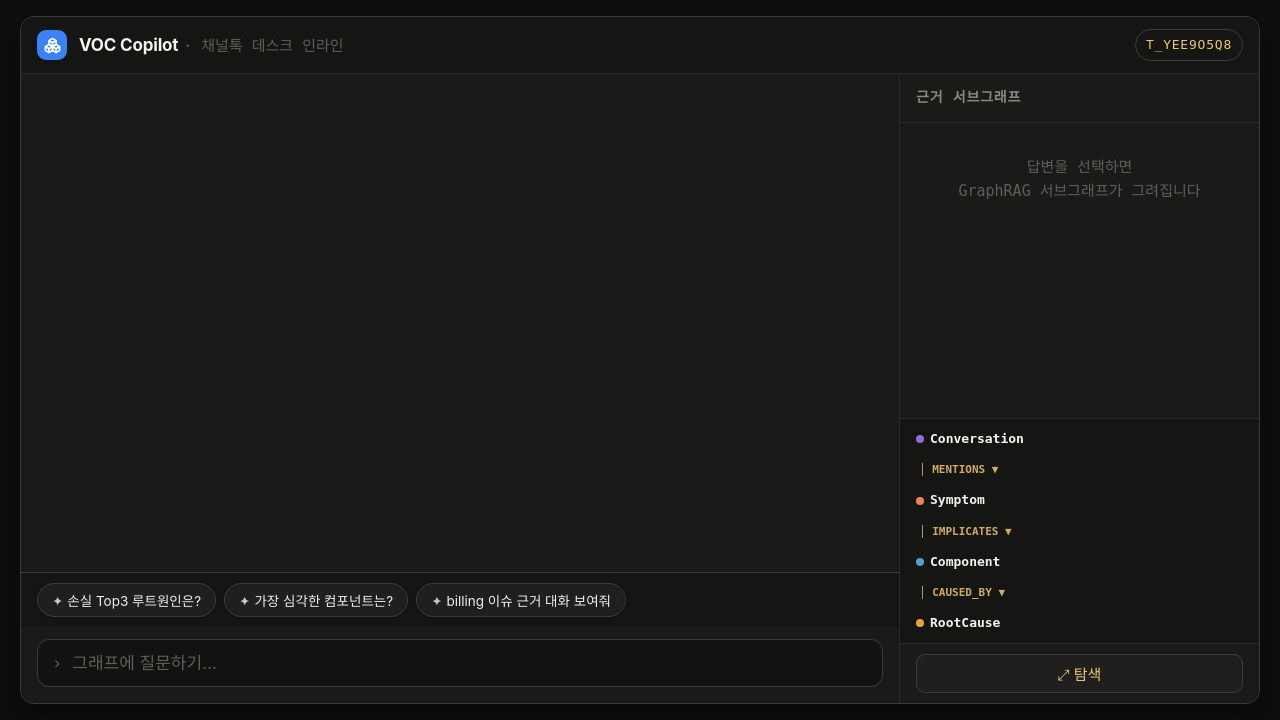
Test case: App › should feed the latest response evidence into the evidence panel (#49)
Type "ORDER 실패 원인?" into the field with placeholder "그래프에 질문하기…".
click(469, 663); type("ORDER 실패 원인?")  # box x1=70 y1=652 x2=868 y2=674
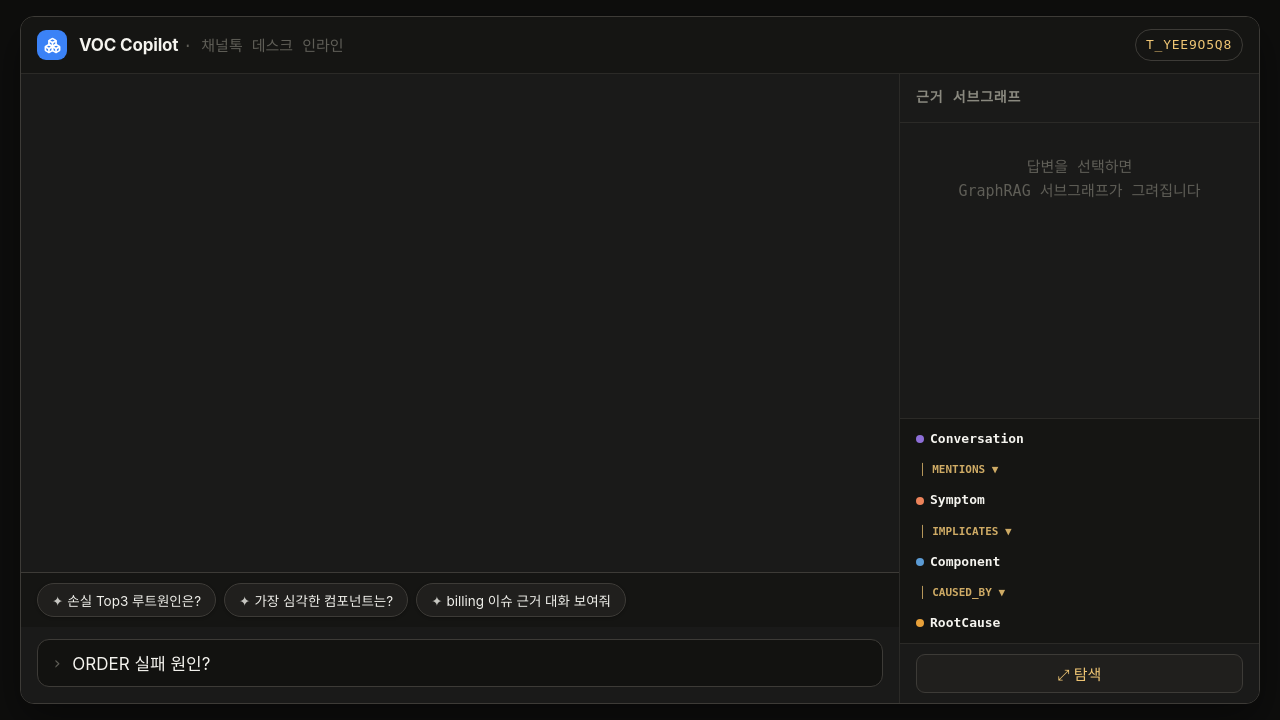
Submit the form with placeholder "질문", box x1=21 y1=627 x2=899 y2=703
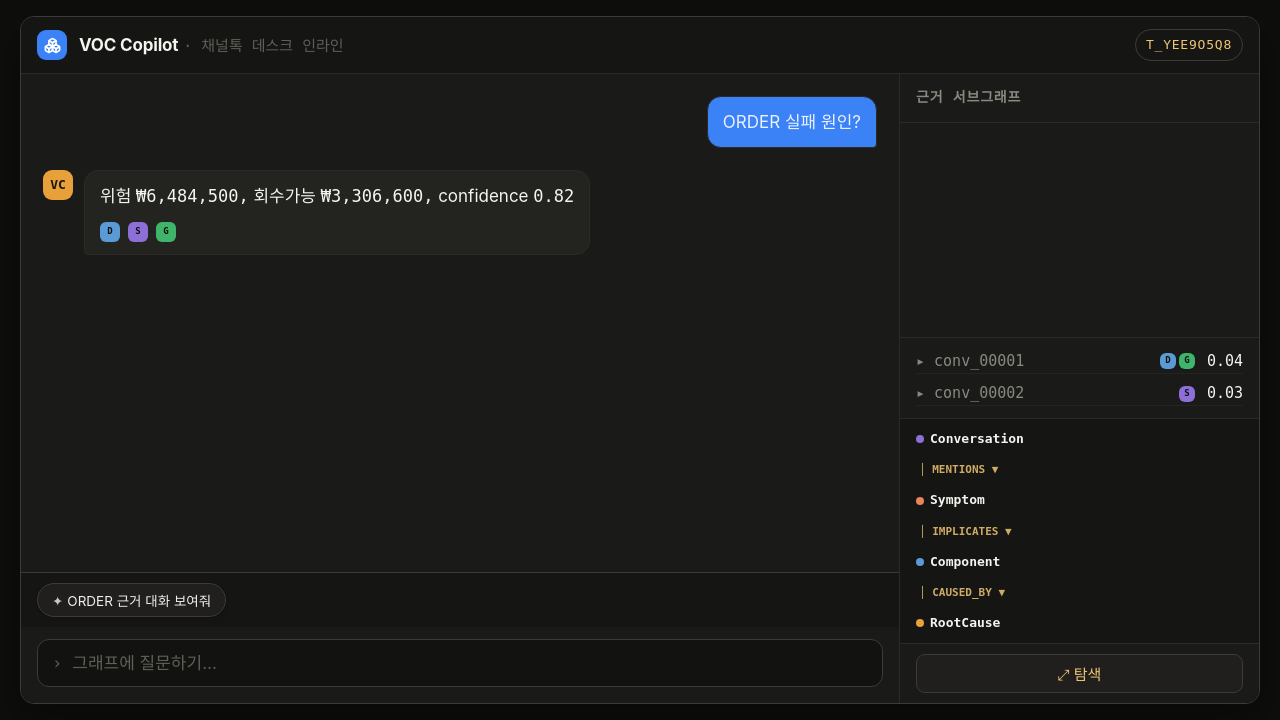
Expected: the number of list items with test id "evidence-item" is 2, x1=916 y1=350 x2=1243 y2=374; x1=916 y1=382 x2=1243 y2=406
Expected: the text "conv_00001" is shown, x1=934 y1=352 x2=1024 y2=370
